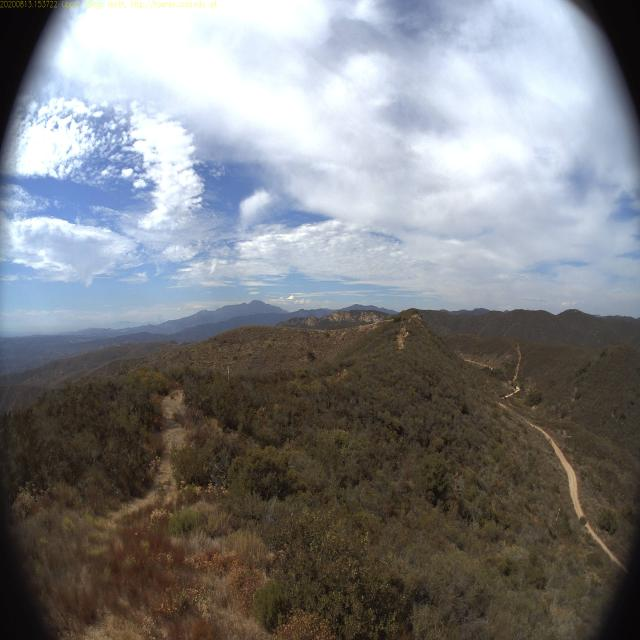smoke: (154, 308, 166, 337)
